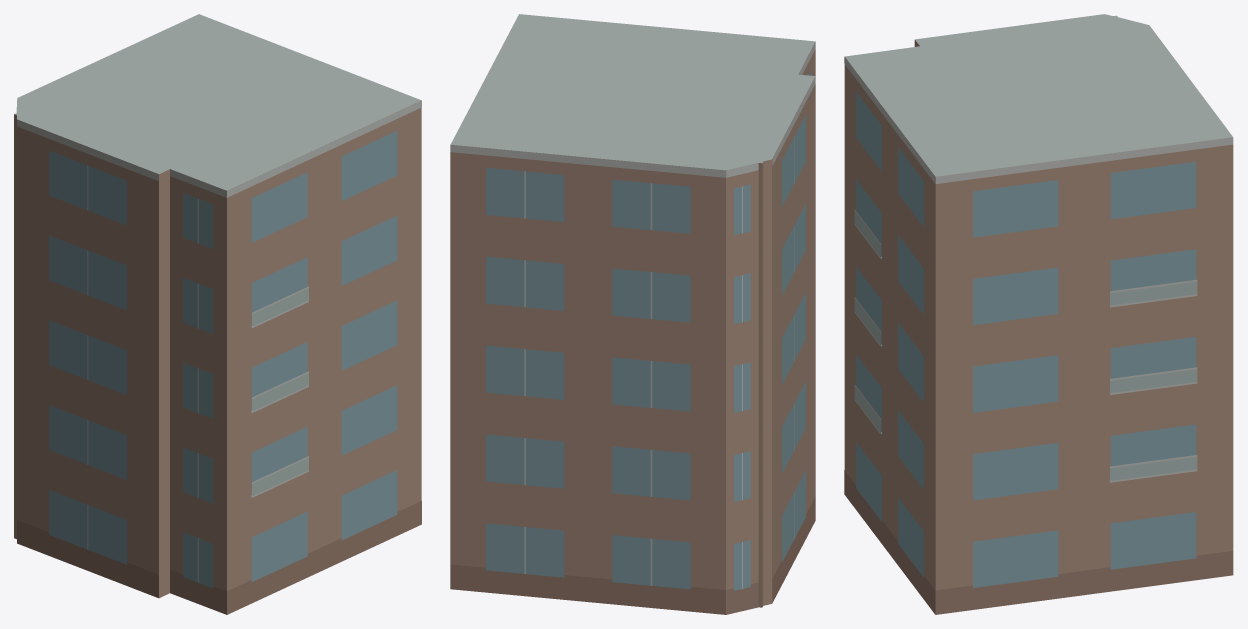
Rendered from survey-upis-32619236.glb.
3 views of the same model, side by side, from view 1: azimuth 30°, elevation 25°; view 2: azimuth 150°, elevation 25°; view 3: azimuth 270°, elevation 25° (orthographic). The views are drawn at different scales.
Parts seen in each view (by area): view 1: survey-upis-32619236.tmp; view 2: survey-upis-32619236.tmp; view 3: survey-upis-32619236.tmp.
Part boxes in pixels (x1,y1,x2,y2): survey-upis-32619236.tmp: (14, 14, 421, 614); survey-upis-32619236.tmp: (450, 14, 815, 614); survey-upis-32619236.tmp: (844, 14, 1233, 614).
Bounding box in the file's own units: 11.69 × 14.65 × 11.79.
